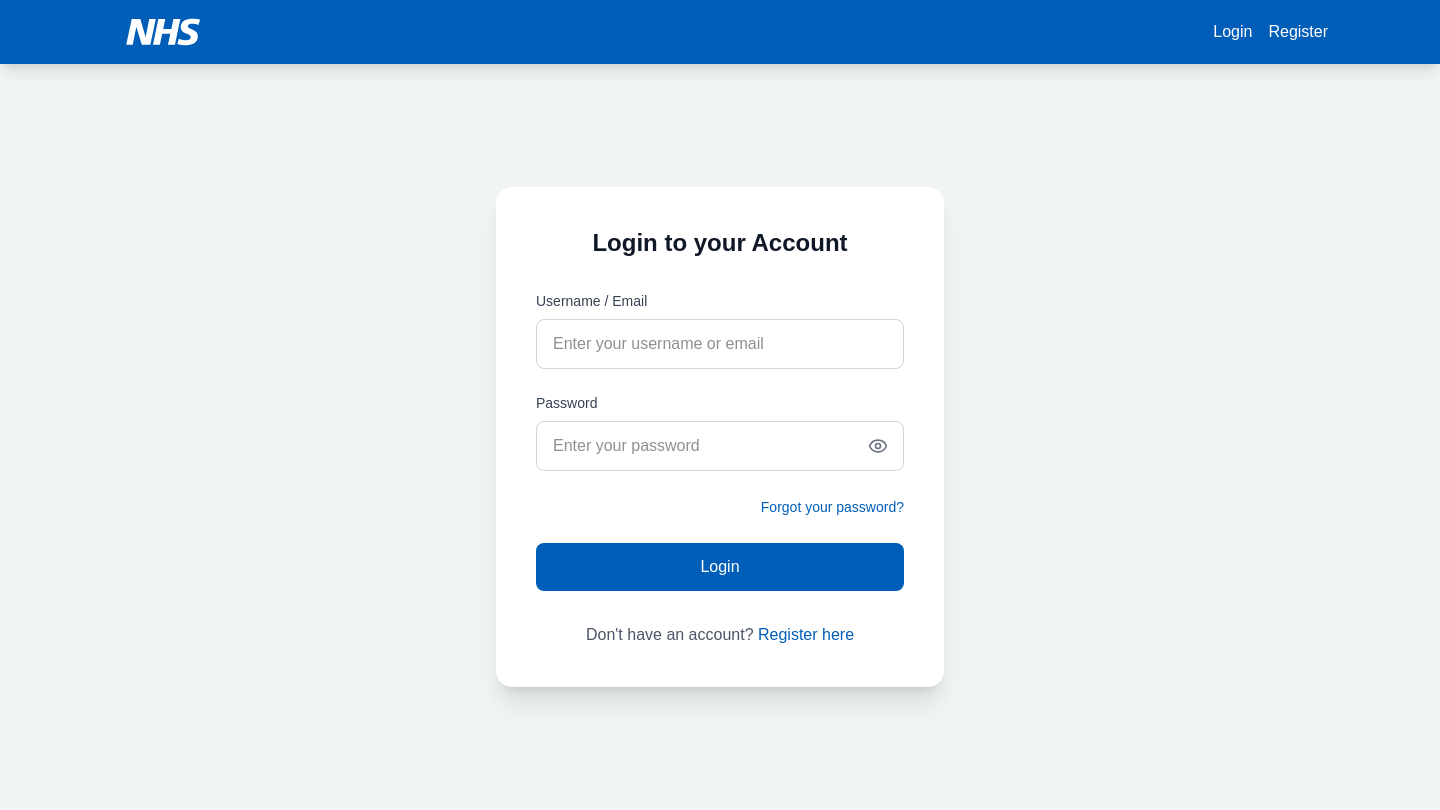
Test: LoginPage › maps invalid, deactivated, and rate-limited login errors to friendly messages
The image size is (1440, 810).
Type "bad@example.com" into the field labelled "Username / Email". click: (720, 344)
box: [536,319,904,369]
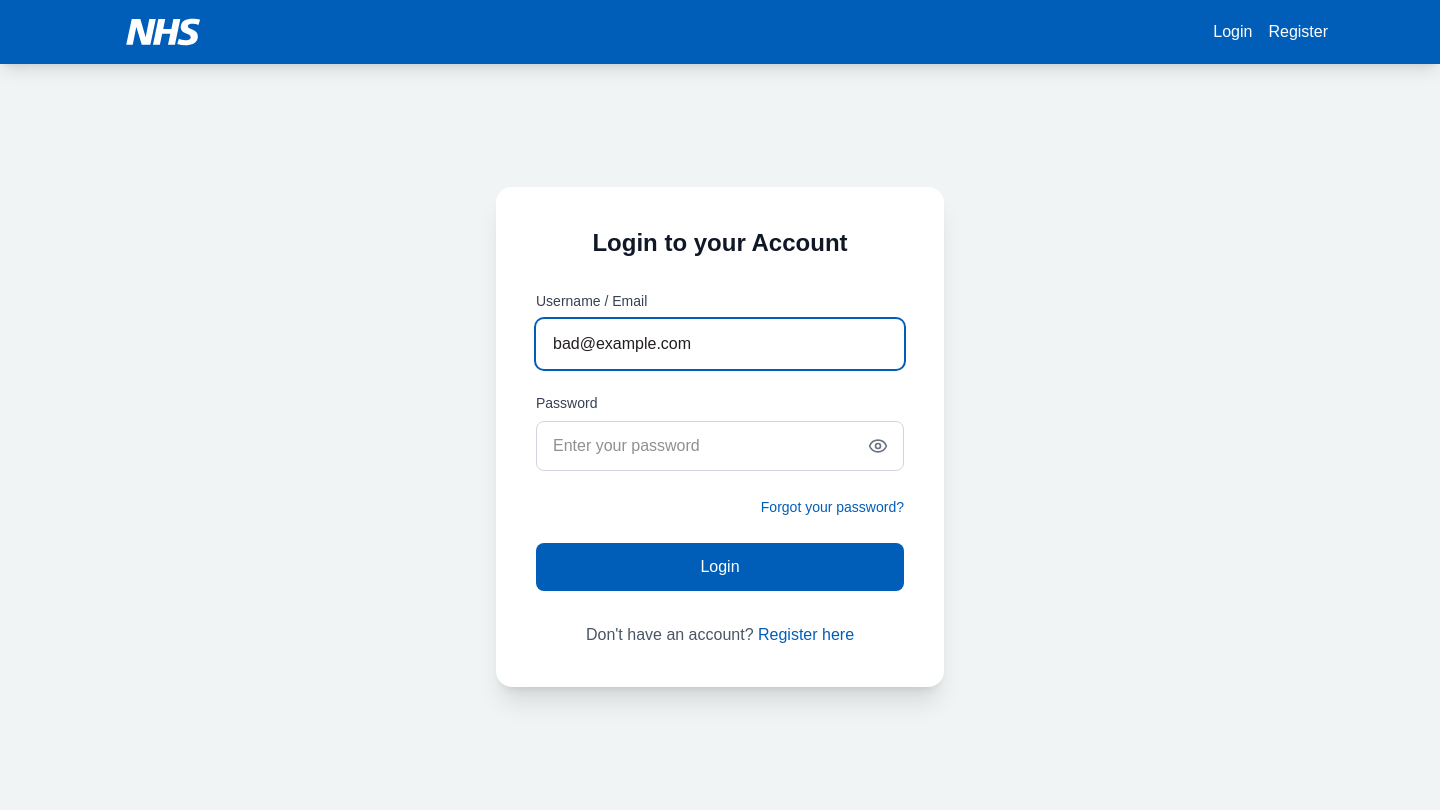
Type "wrong" into the password field labelled "Password". click: (720, 446)
box: [536,421,904,471]
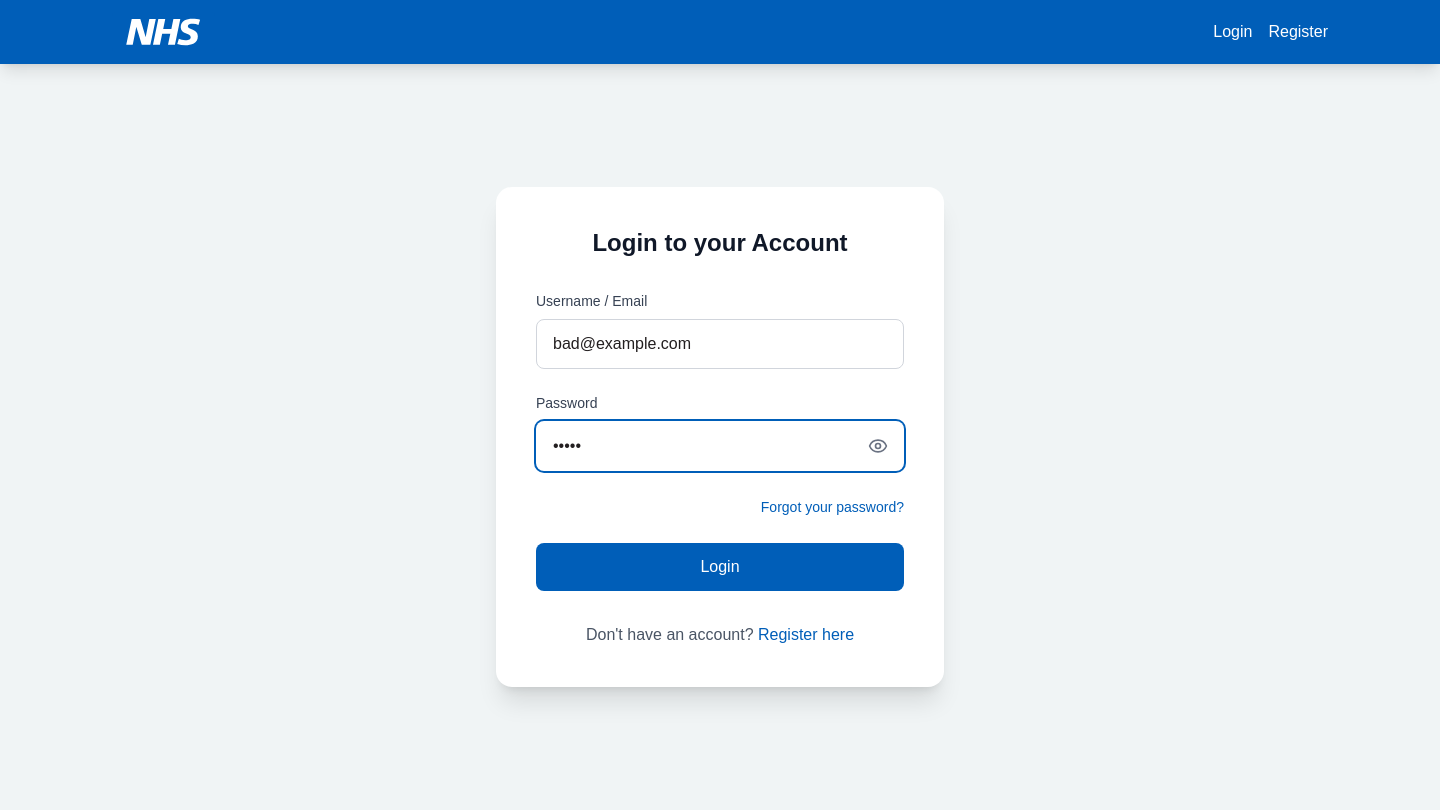
Click the button "Login". click: (720, 567)
box: [536,543,904,591]
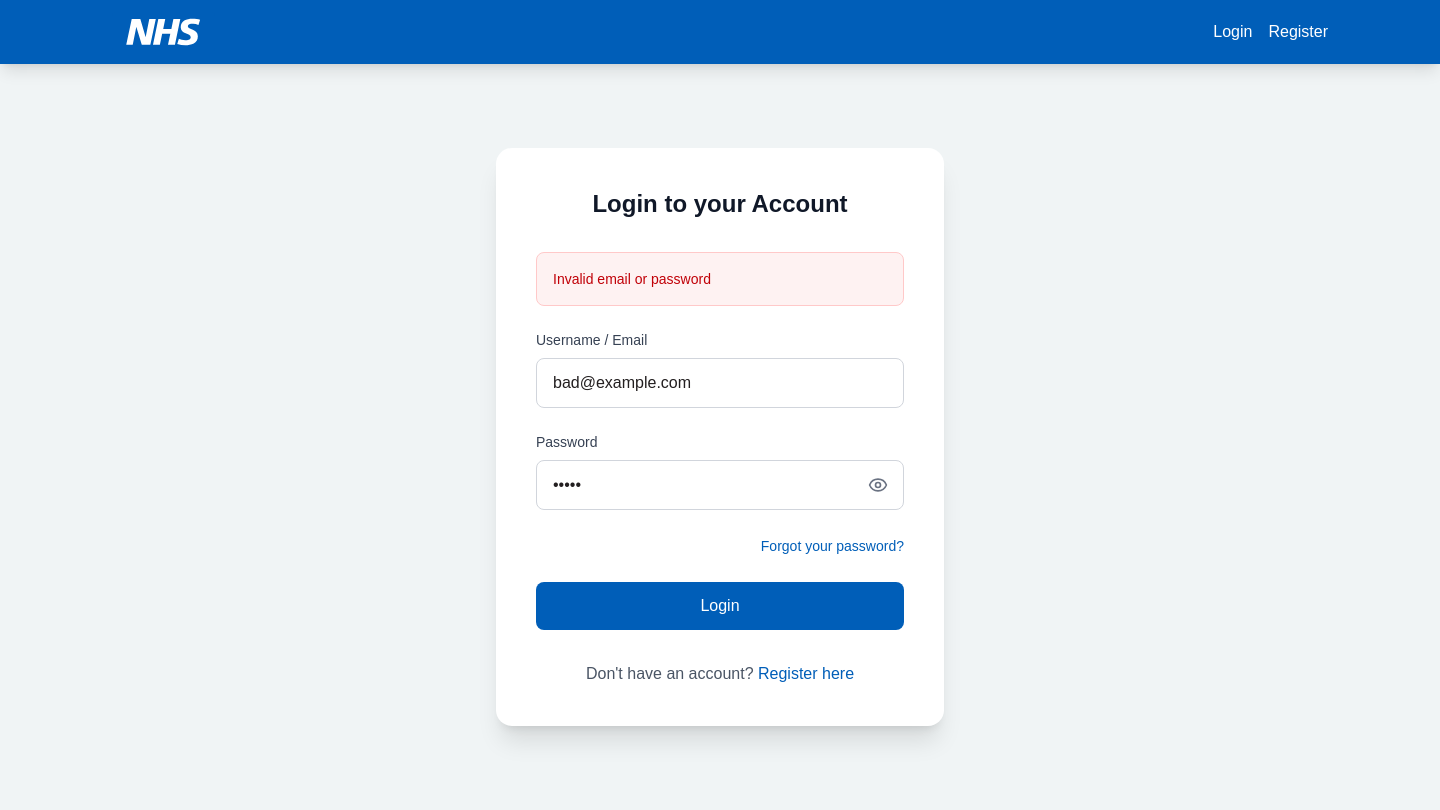
Now the text "Invalid email or password" is shown, box [536,252,904,306]
Click the button "Login". click: (720, 606)
box: [536,582,904,630]
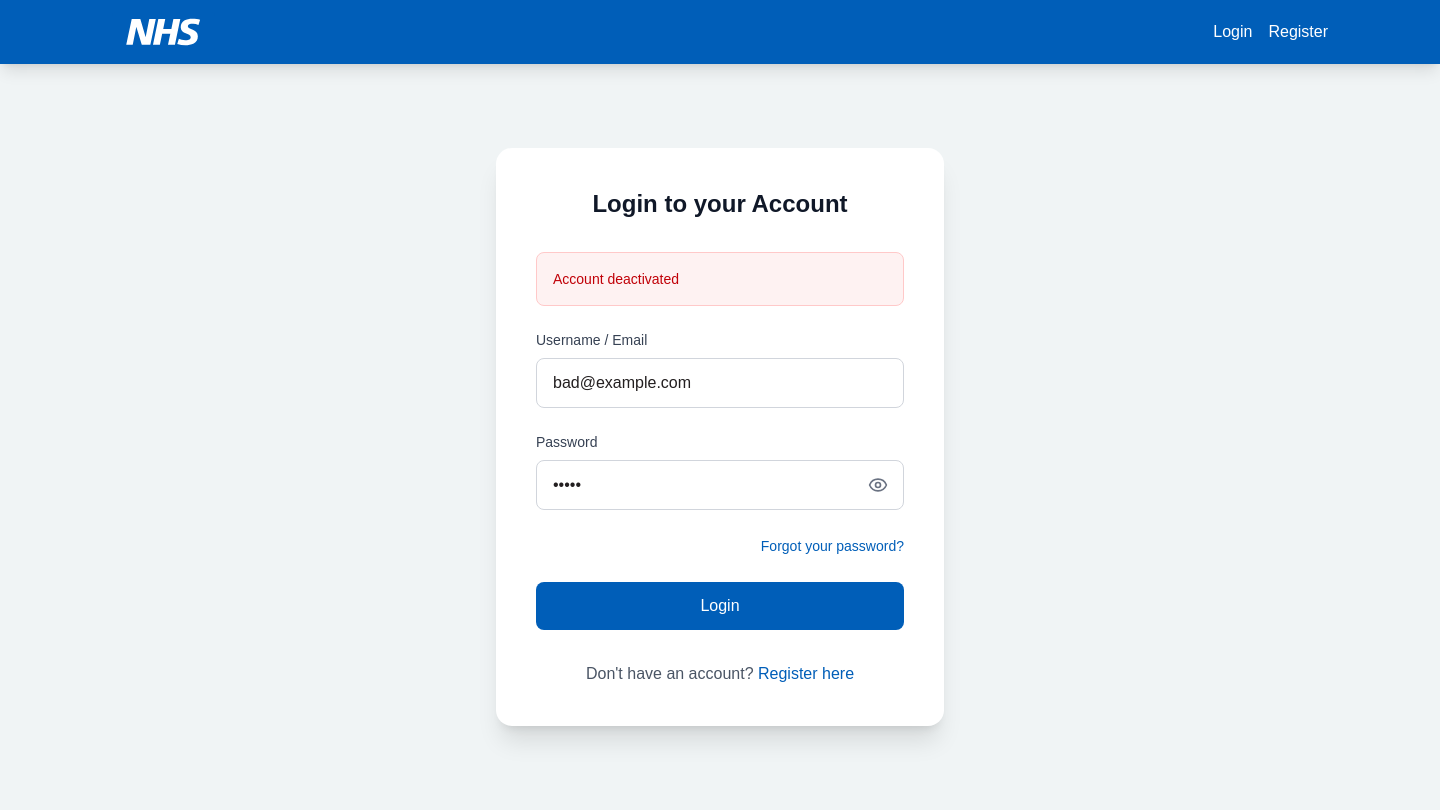
Now the text "Account deactivated" is shown, box [536,252,904,306]
Click the button "Login". click: (720, 606)
box: [536,582,904,630]
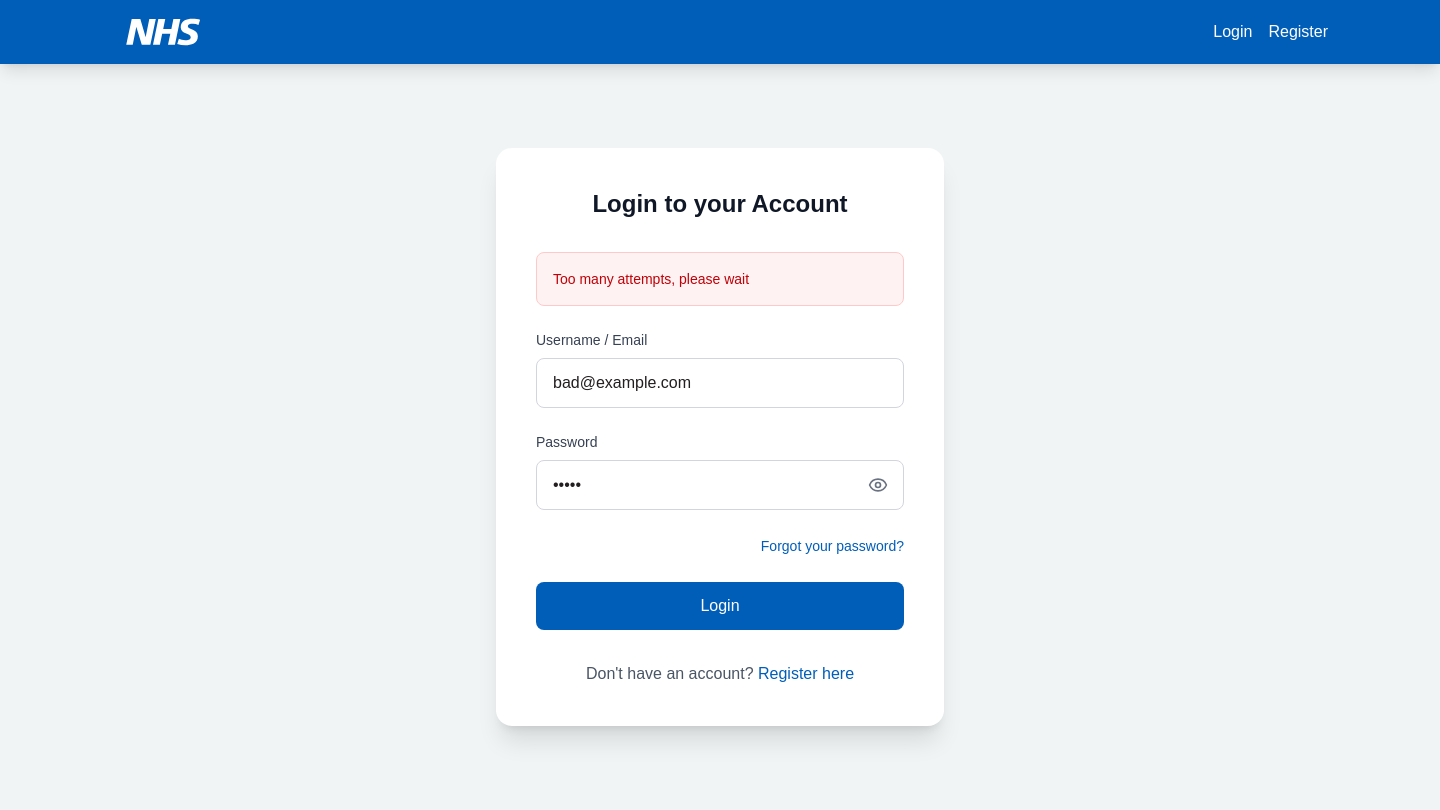
Now the text "Too many attempts, please wait" is shown, box [536,252,904,306]
